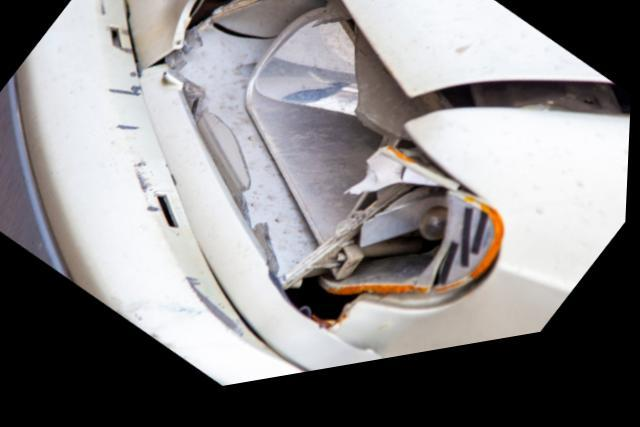lamp broken: (174, 0, 505, 327)
scratch: (107, 299, 245, 394), (186, 280, 248, 344)
